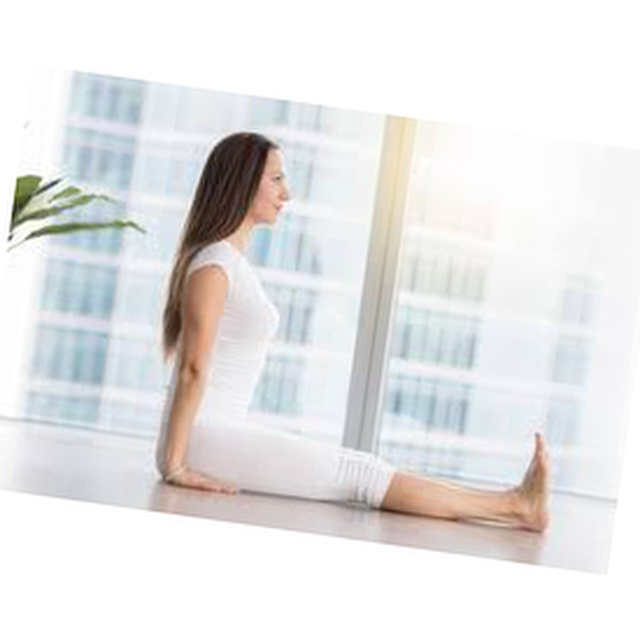Staff_Pose: (152, 131, 549, 536)
